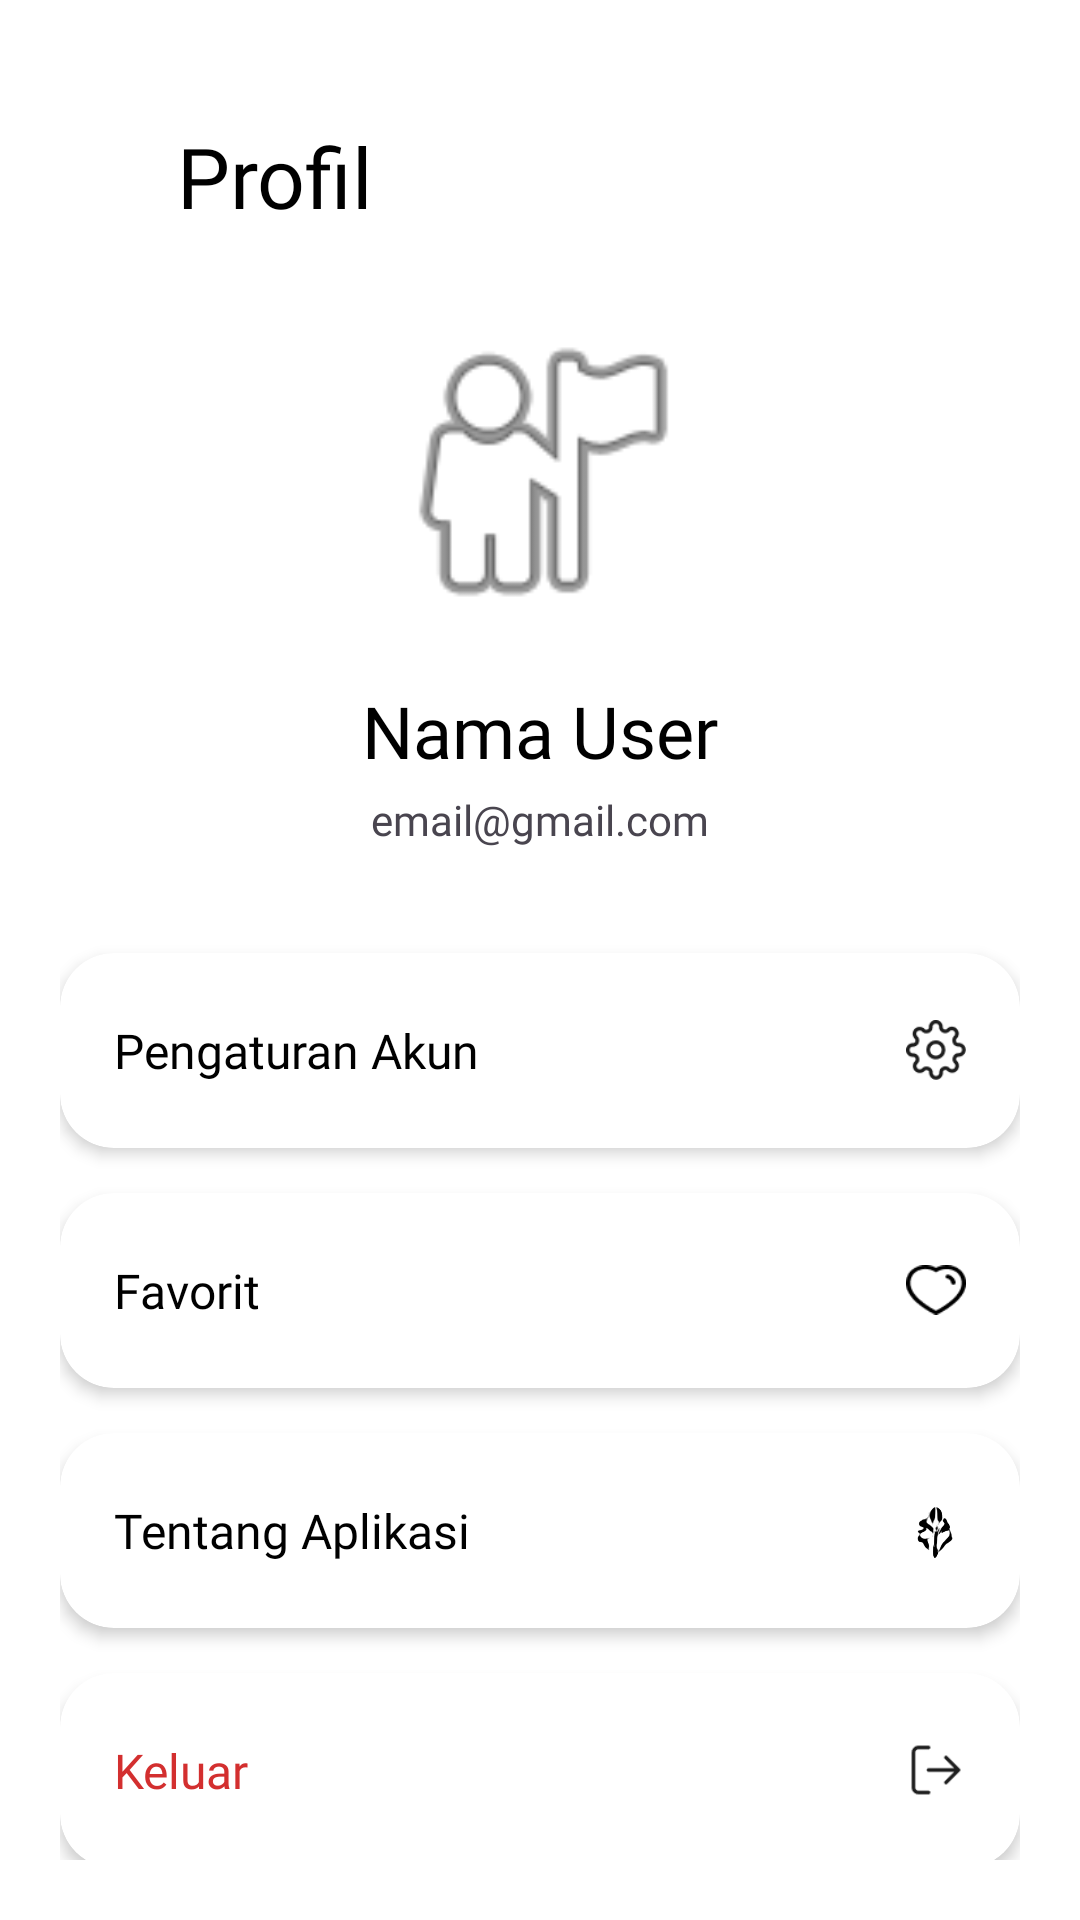

Icons on this 1080px×1920px Android screen, each with its box as (x1, y1, x2, y2):
favorit: (906, 1265, 966, 1315)
settings: (906, 1020, 966, 1080)
